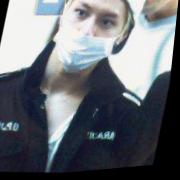WRONG: (53, 1, 128, 77)
